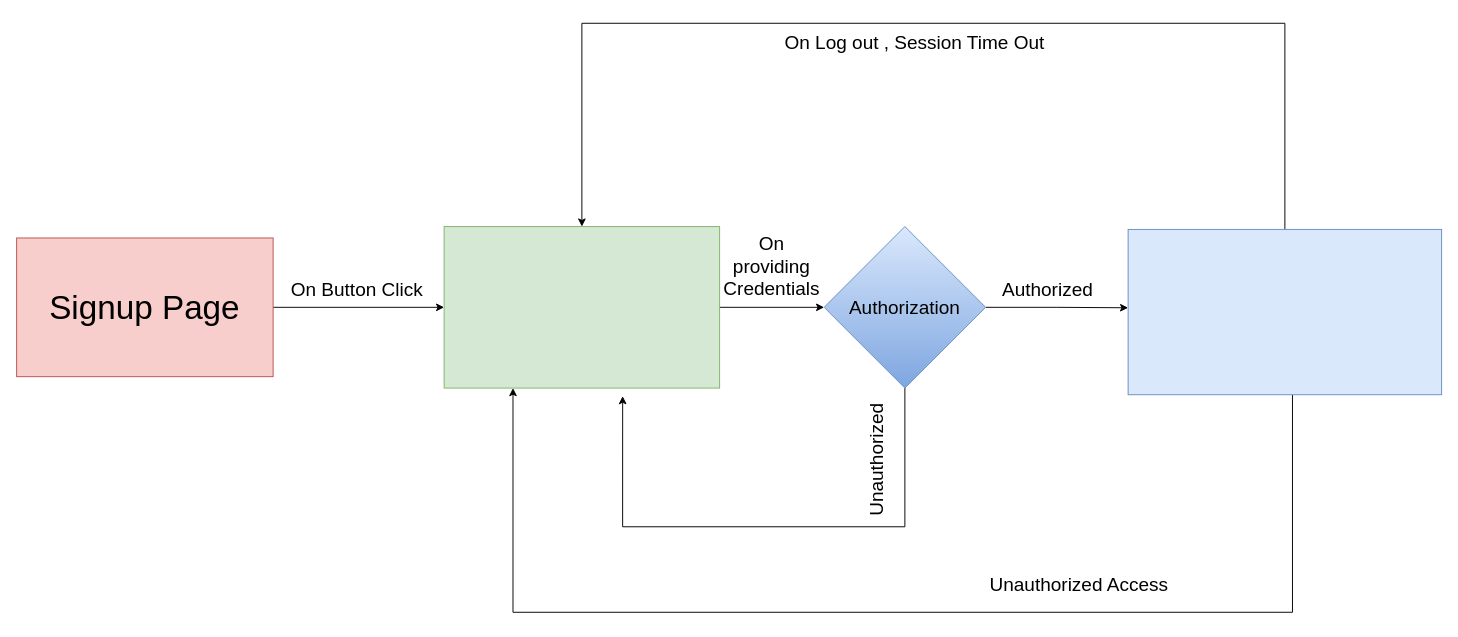
Image size: 1458x637. Some labels were removed from this diagram. Here are the shapes that lost their labels. From the top down, the centre of each, then its label:
point (581, 307): Login Page
point (1284, 311): Home
